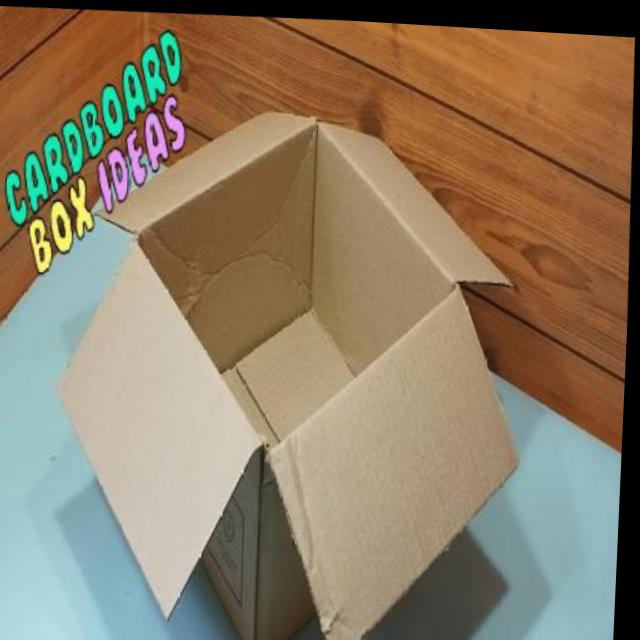box: (40, 81, 540, 640)
